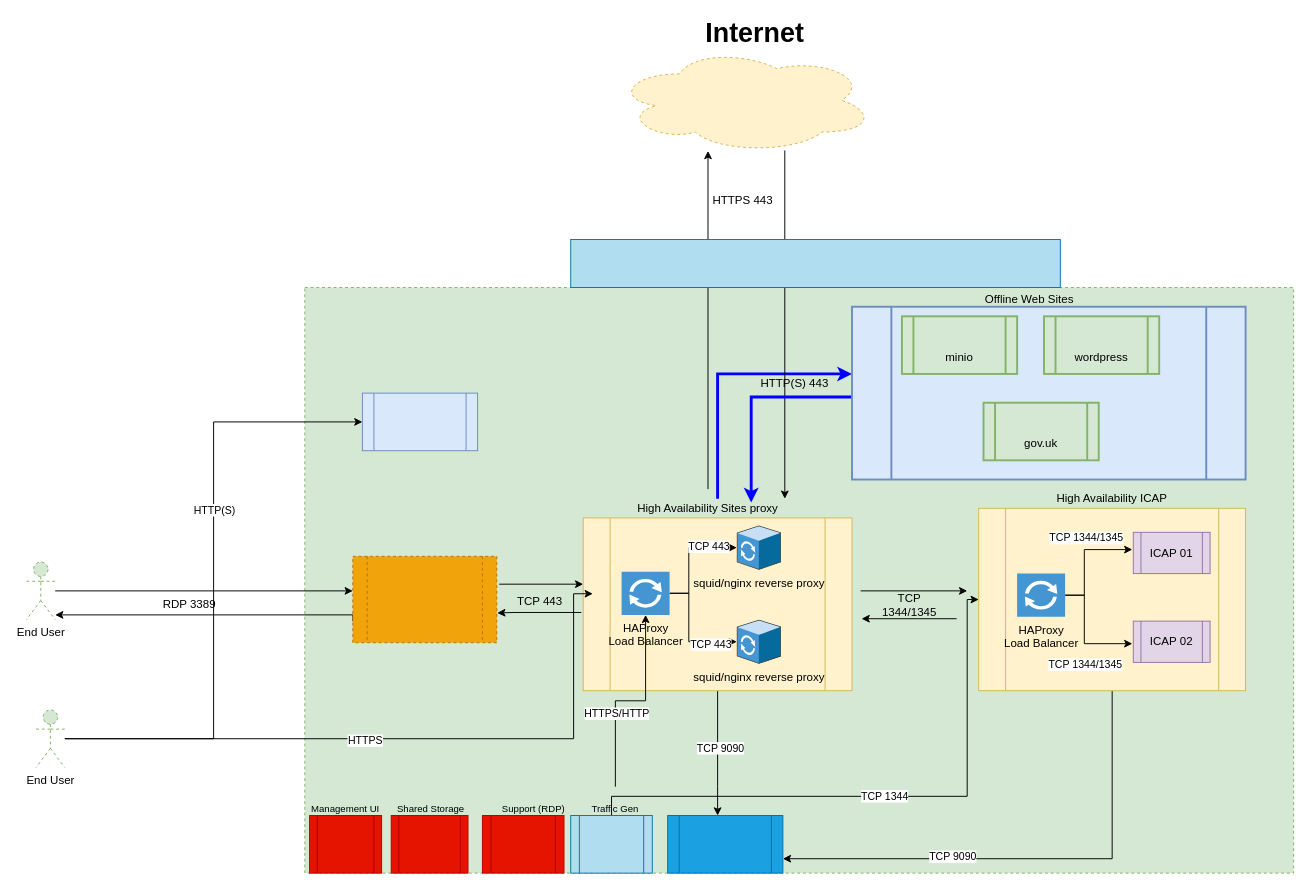
This 1310x890 diagram has some shape labels left out. The shapes that lost their labels are listed below. From the top down, each one's box as (x1, y1, x2, y2) in pixels, then its label:
(614, 47, 874, 153): owasp.org glasswall min.io
(570, 239, 1060, 288): VMWare ESXI Host
(361, 392, 478, 451): files-drop
(352, 555, 497, 643): Linux Desktop (host files changes)
(667, 815, 783, 873): Monitoring (Prometheus)
